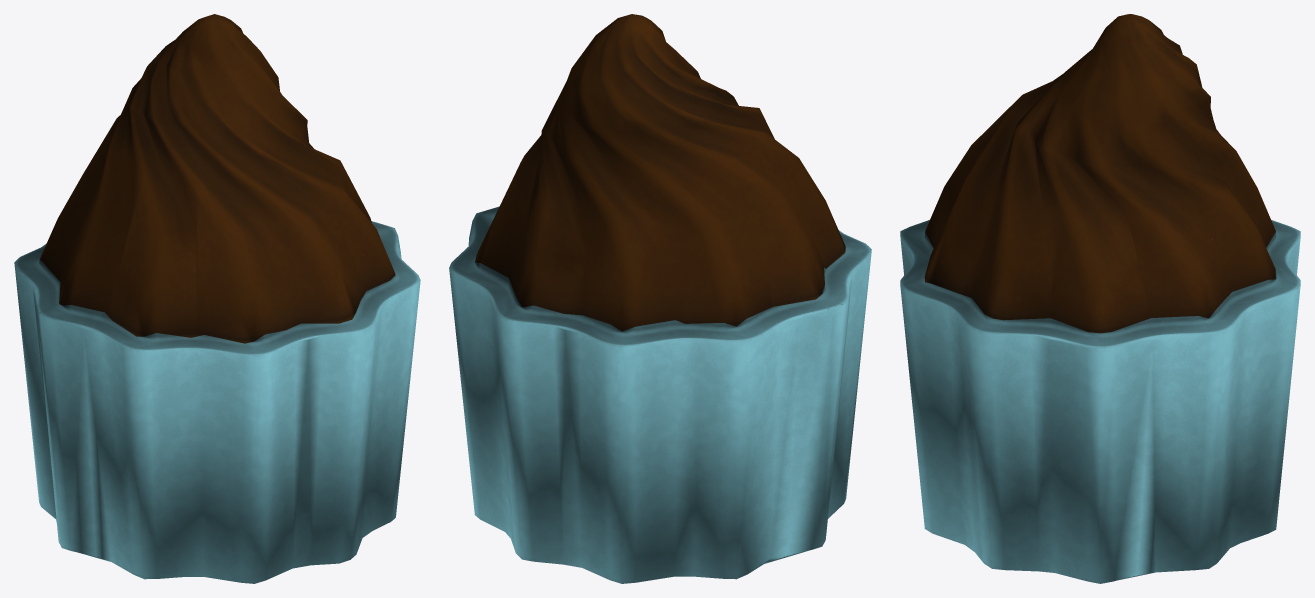
File: s_cupcake_01.fbx
3 renders of one model, left to right at view 1: azimuth 30°, elevation 25°; view 2: azimuth 150°, elevation 25°; view 3: azimuth 270°, elevation 25°, orthographic. The views are drawn at different scales.
Visible parts, largest first — view 1: s_cupcake_01; view 2: s_cupcake_01; view 3: s_cupcake_01.
Part boxes in pixels (x1,y1,x2,y2): s_cupcake_01: [14, 14, 420, 583]; s_cupcake_01: [449, 14, 871, 583]; s_cupcake_01: [900, 14, 1300, 583].
Bounding box in the file's own units: 22.18 × 28.86 × 21.01.
